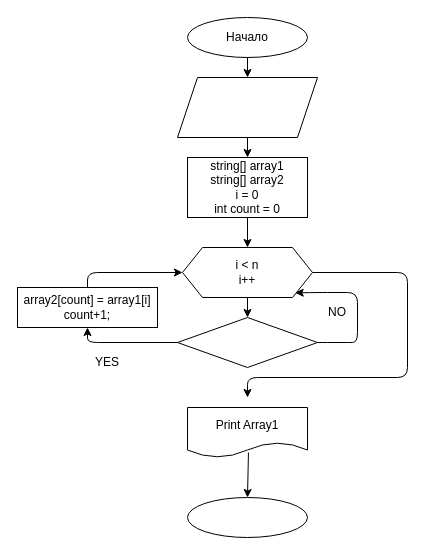
This 433x555 diagram has some shape labels left out. Each missing label, with the centre of its shape:
i <=3: point (247, 342)
Ввод элементов массива строк string[] arrey: point (247, 107)
Конец: point (247, 517)
